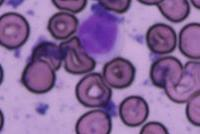L: (75, 3, 128, 62)
